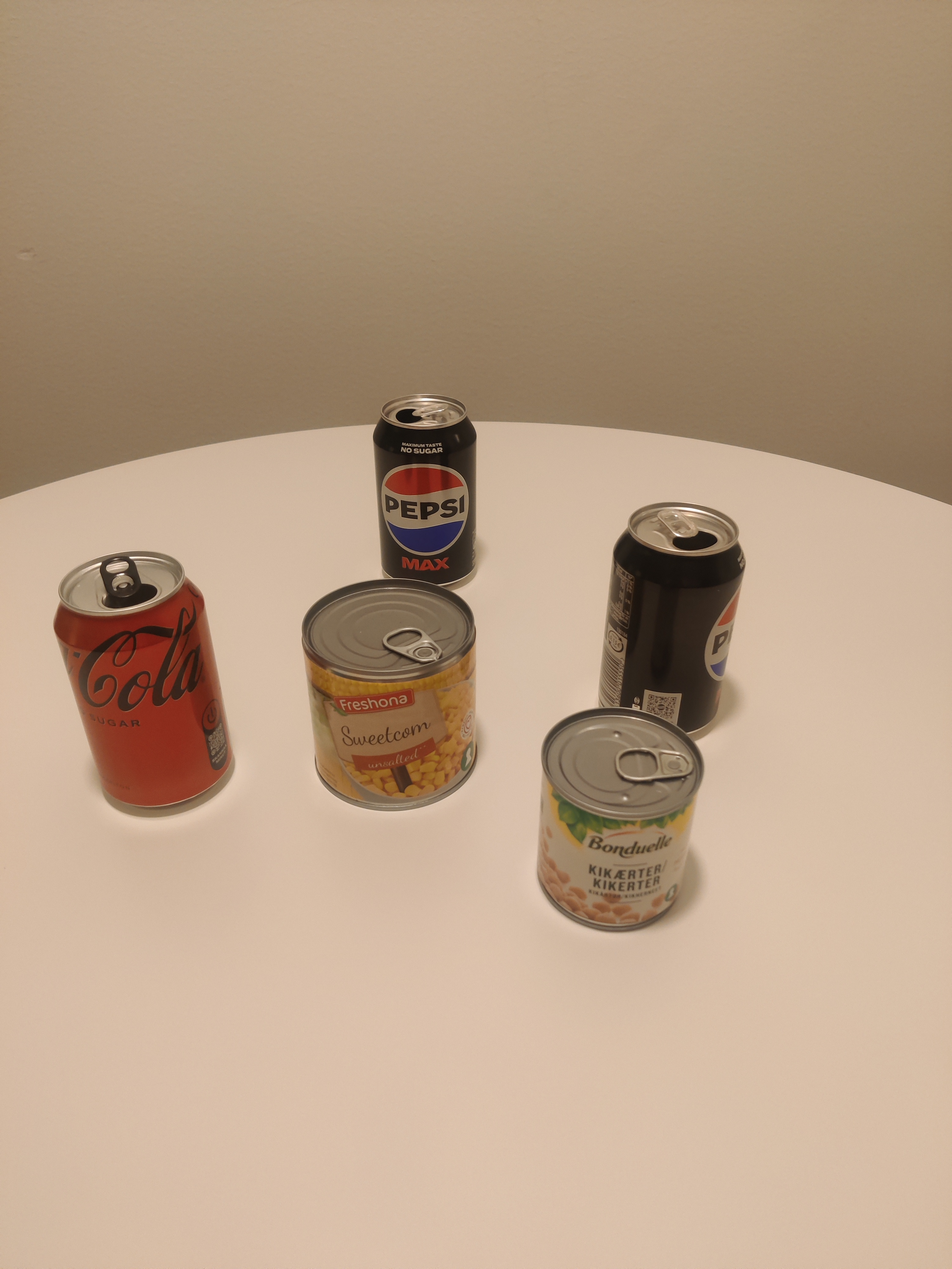Konservburk: (299, 577, 495, 828), (534, 710, 720, 935)
Pantburk: (51, 549, 273, 863), (602, 500, 762, 746), (371, 395, 499, 593)
